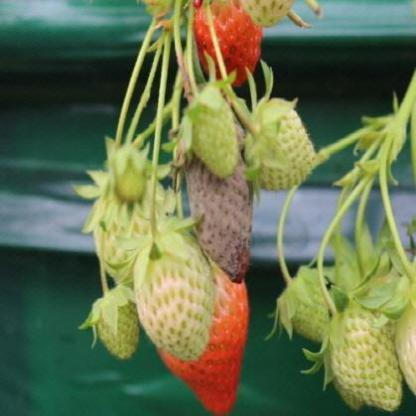Strawberry_Gray_Mold: (182, 102, 254, 286)
